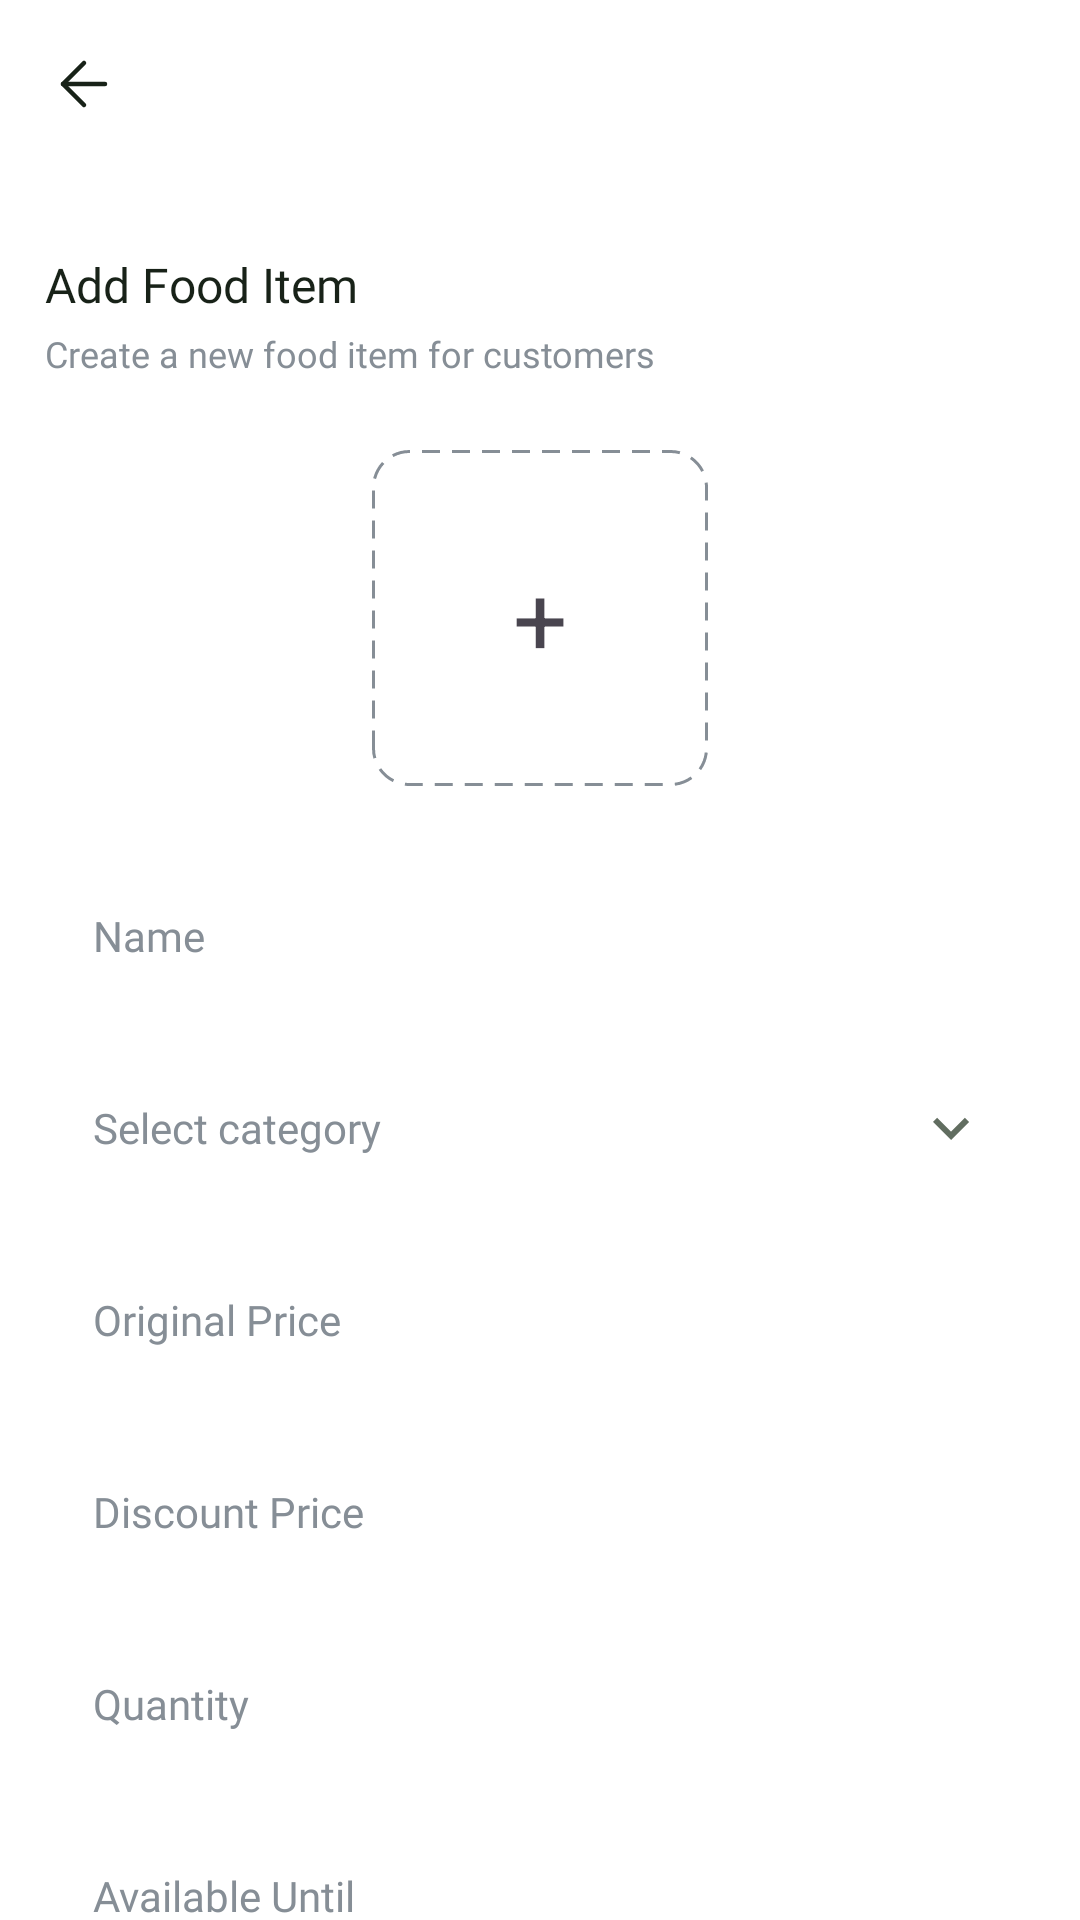

Point at icon controls on the screen. Image size 1080×1920, points as [x,y].
Back: [83,84]
